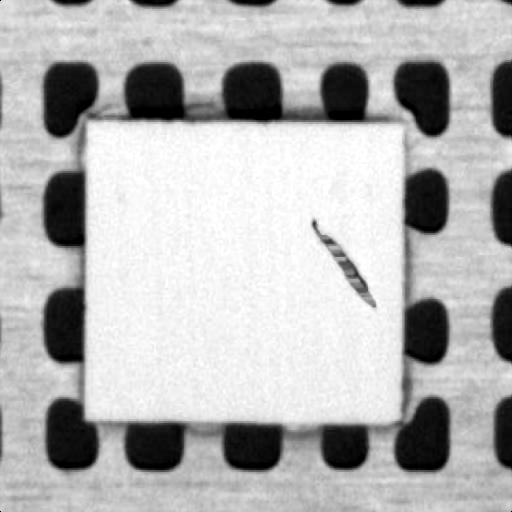DIE_INK: (310, 218, 374, 302)
